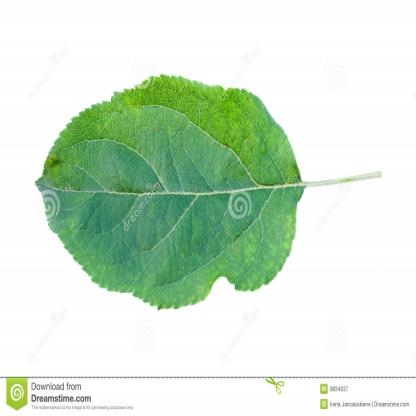apple leaf: (31, 68, 385, 317)
